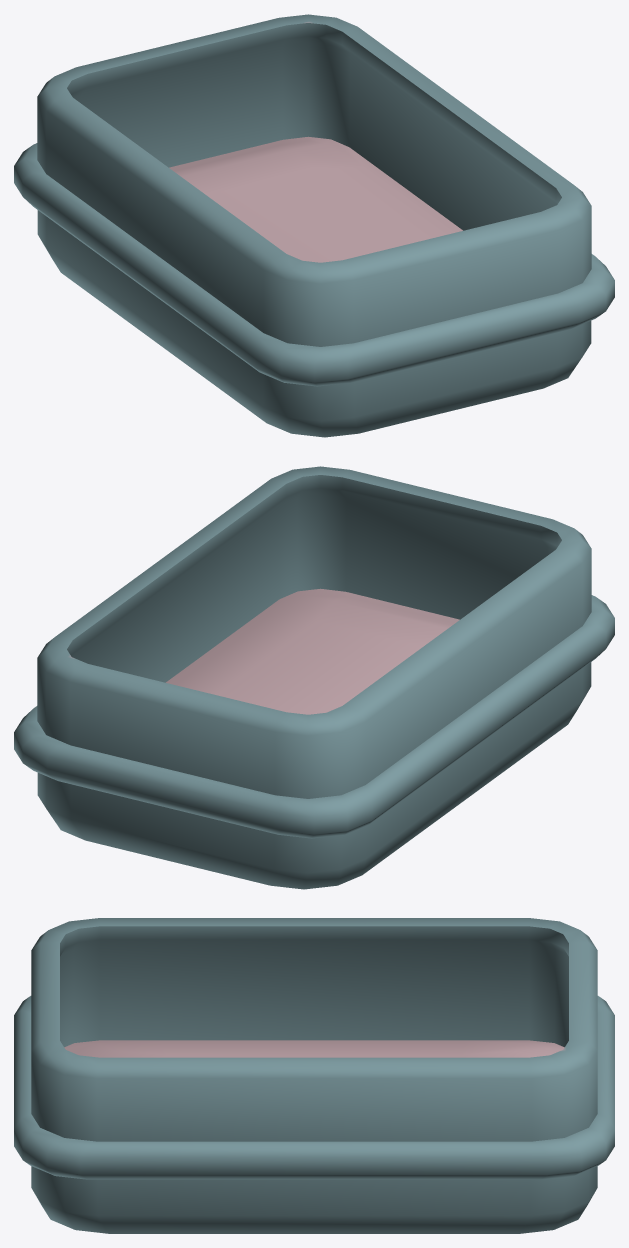
File: Cat_Shit_Box.fbx
3 views of the same model, one above another, from view 1: azimuth 30°, elevation 25°; view 2: azimuth 150°, elevation 25°; view 3: azimuth 270°, elevation 25° (orthographic).
Visible parts, largest first — view 1: Cat_Shit_Box; view 2: Cat_Shit_Box; view 3: Cat_Shit_Box.
Boxes of the visible parts, x1,y1,x2,y2 form: Cat_Shit_Box: [14, 14, 614, 437]; Cat_Shit_Box: [14, 466, 614, 889]; Cat_Shit_Box: [14, 918, 614, 1233].
Bounding box in the file's own units: 37.68 × 18.33 × 56.19.
